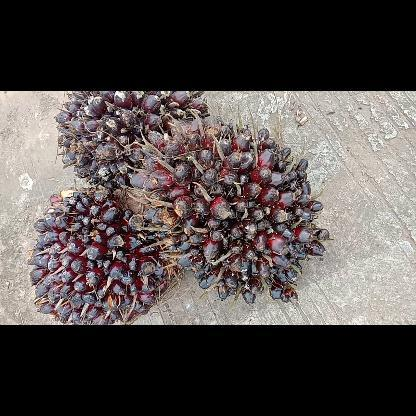TBS mentah: (127, 118, 335, 308), (26, 186, 182, 324), (50, 91, 212, 191)
